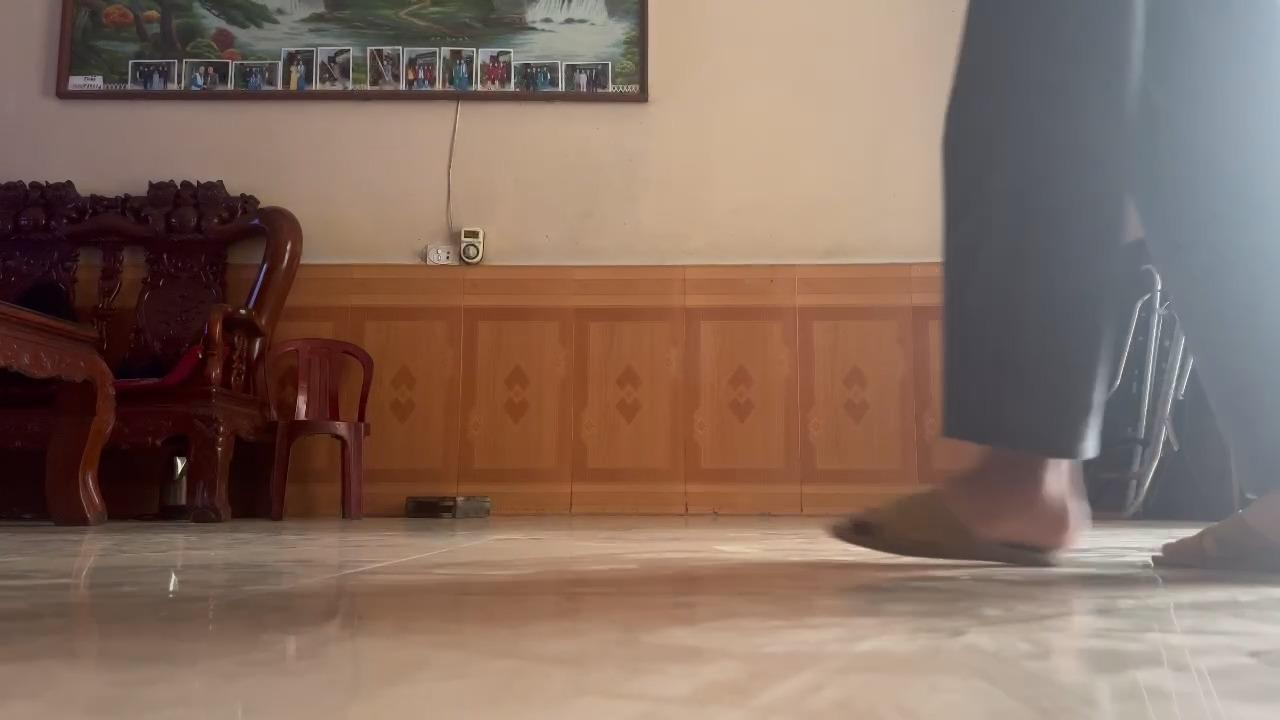no-boot: (813, 479, 1092, 573), (1146, 516, 1280, 582)
